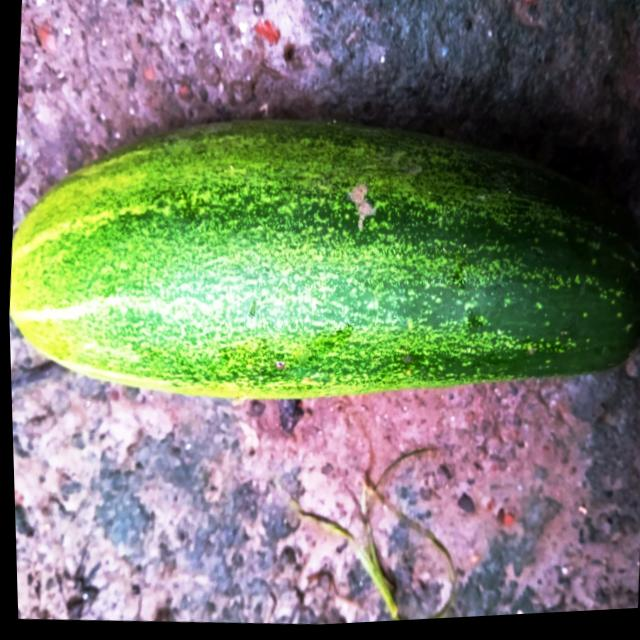Fresh-Cucumber: (2, 81, 640, 442)
